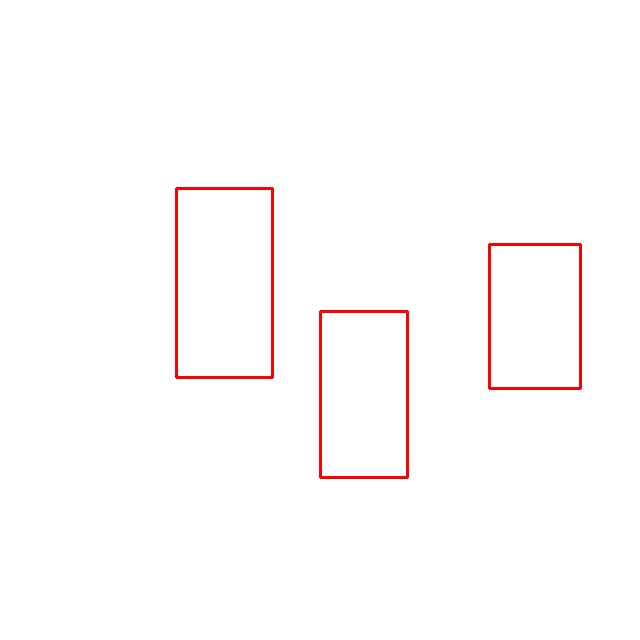weapon: (177, 189, 273, 378), (321, 311, 408, 477), (489, 245, 580, 389)
